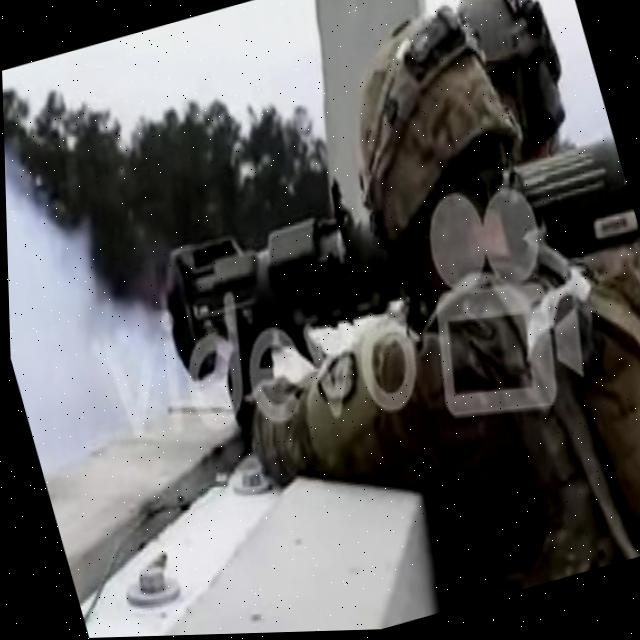rocket: (118, 63, 640, 461)
